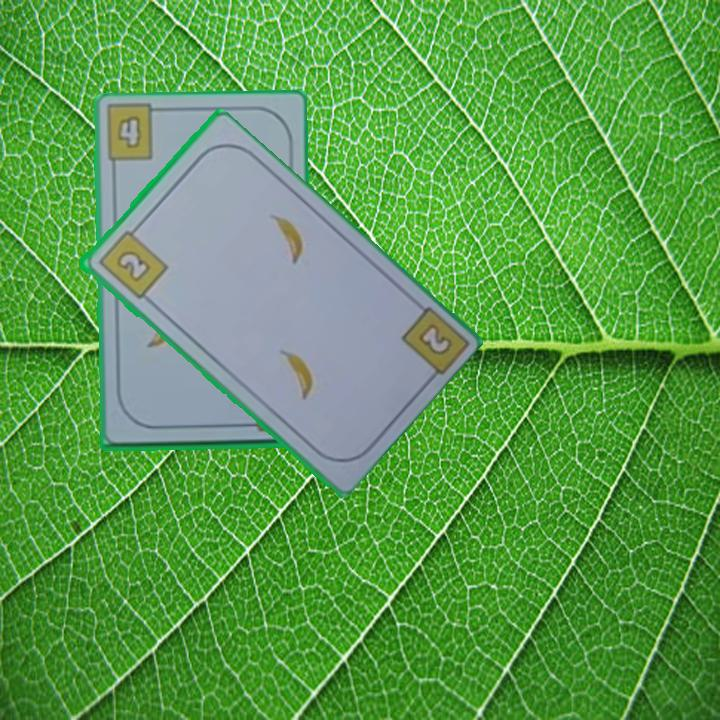2b: (93, 221, 171, 302), (413, 319, 455, 359)
4b: (113, 111, 144, 151)
